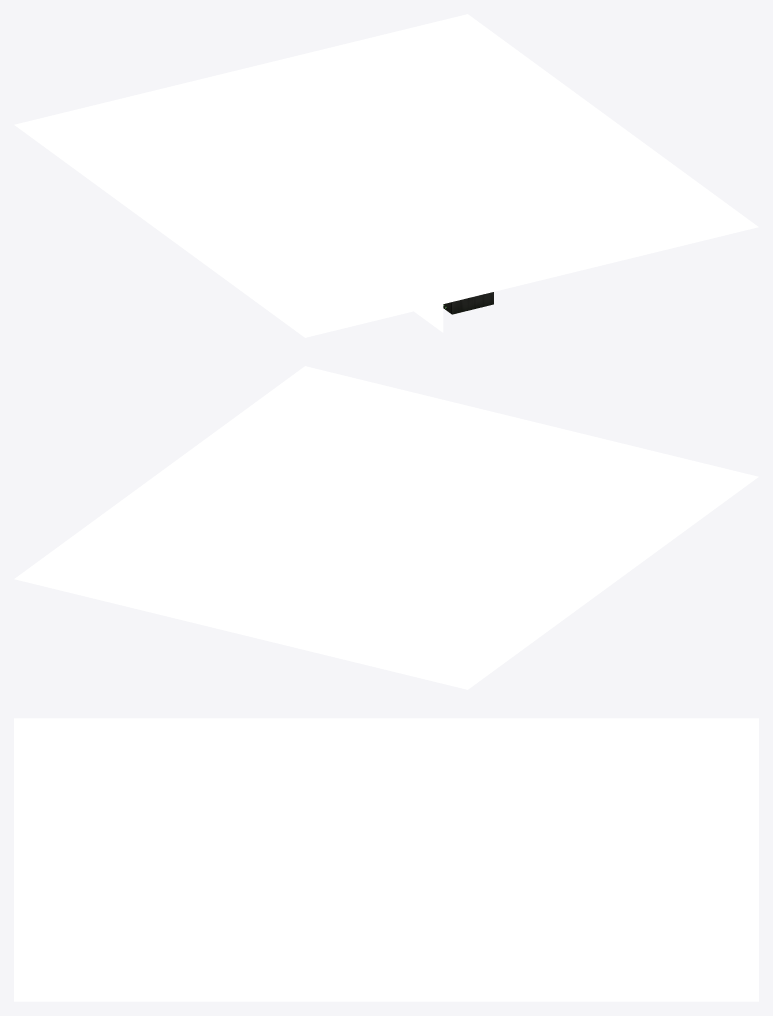
File: cena.glb
3 views of the same model, one above another, from view 1: azimuth 30°, elevation 25°; view 2: azimuth 150°, elevation 25°; view 3: azimuth 270°, elevation 25° (orthographic). The views are drawn at different scales.
Parts seen in each view (by area): view 1: CeuBuraco, Paredes; view 2: CeuBuraco; view 3: CeuBuraco.
Boxes of the visible parts, left/top/right/bottom form: CeuBuraco: left=14, top=14, right=758, bottom=337; Paredes: left=443, top=292, right=493, bottom=314; CeuBuraco: left=14, top=366, right=758, bottom=689; CeuBuraco: left=14, top=718, right=758, bottom=1001.
Size of the model in its own units: 90 by 14 by 100.
33 materials, 3 textured.
